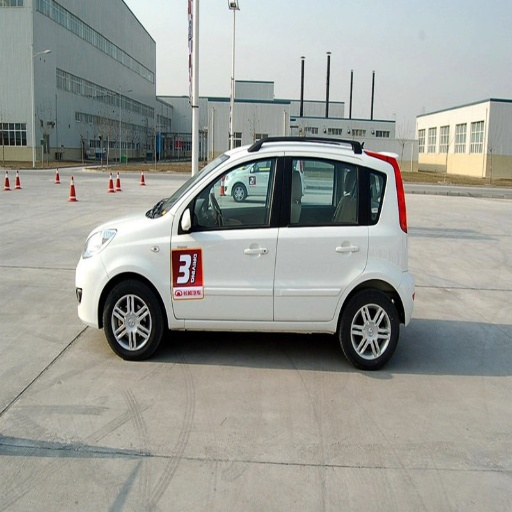back_left_door: (275, 151, 369, 320)
front_left_door: (169, 152, 283, 318)
